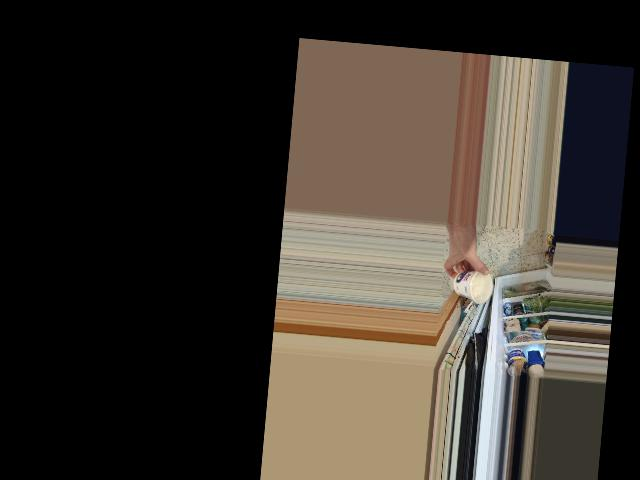cotage: (449, 264, 493, 303)
